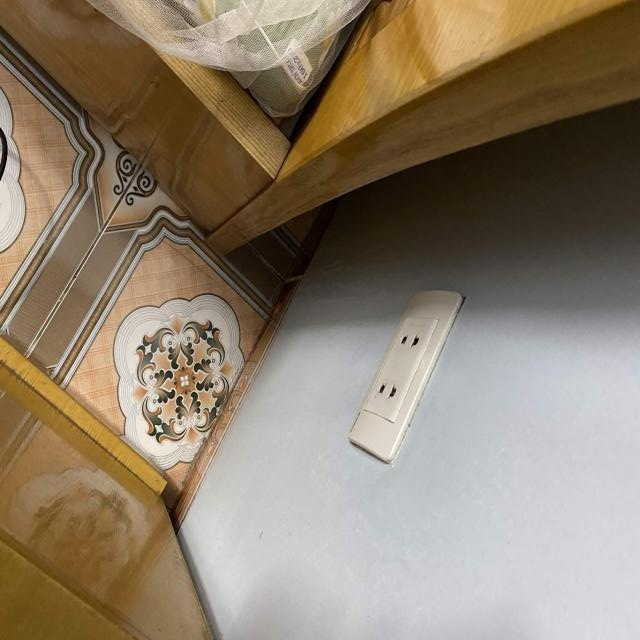outlet: (349, 288, 466, 464)
